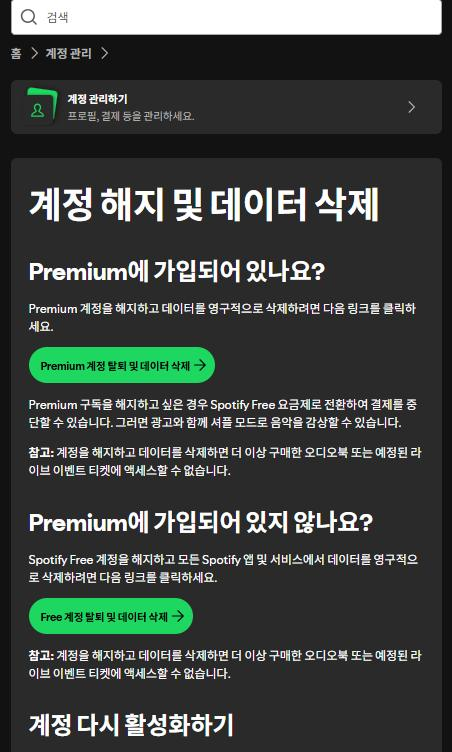button: (13, 78, 440, 132), (28, 344, 217, 381), (31, 597, 192, 633)
